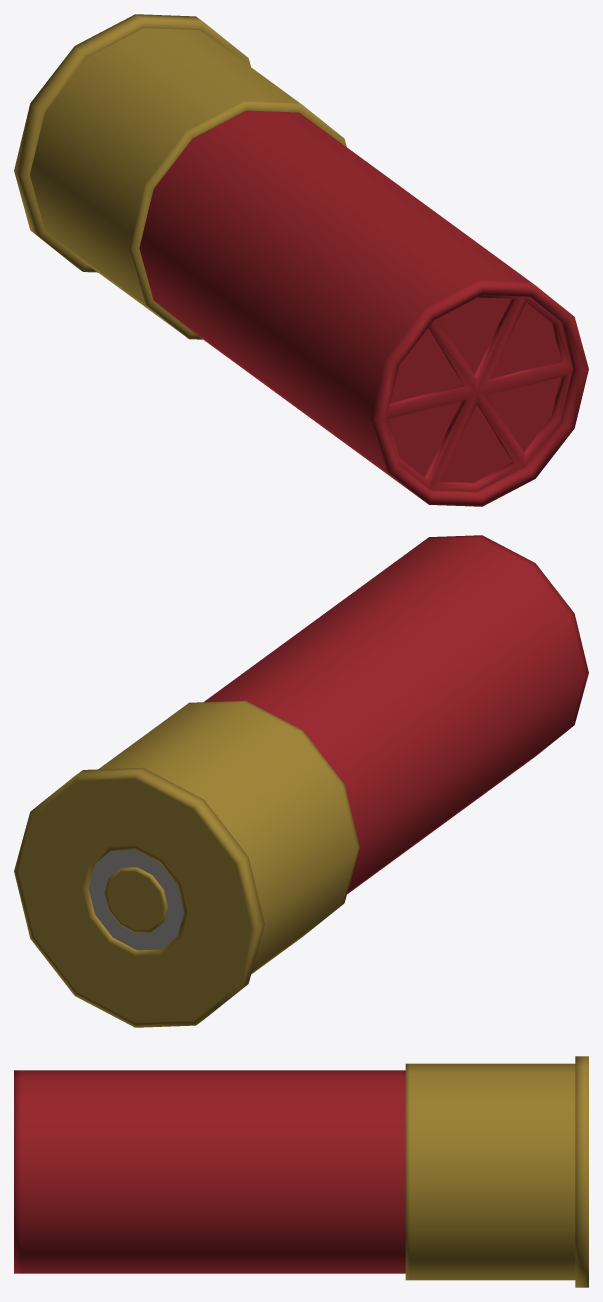
The model's file is shotgun_shell.glb.
The picture shows the model from 3 angles, top to bottom: view 1: azimuth 30°, elevation 25°; view 2: azimuth 150°, elevation 25°; view 3: azimuth 270°, elevation 25°; orthographic projection. The views are drawn at different scales.
Visible parts, largest first — view 1: shotgun_shell; view 2: shotgun_shell; view 3: shotgun_shell.
Boxes of the visible parts, x1,y1,x2,y2 form: shotgun_shell: (14,14,588,506); shotgun_shell: (14,535,588,1027); shotgun_shell: (14,1056,588,1287).
Bounding box in the file's own units: 0.2 × 0.2 × 0.4954.
